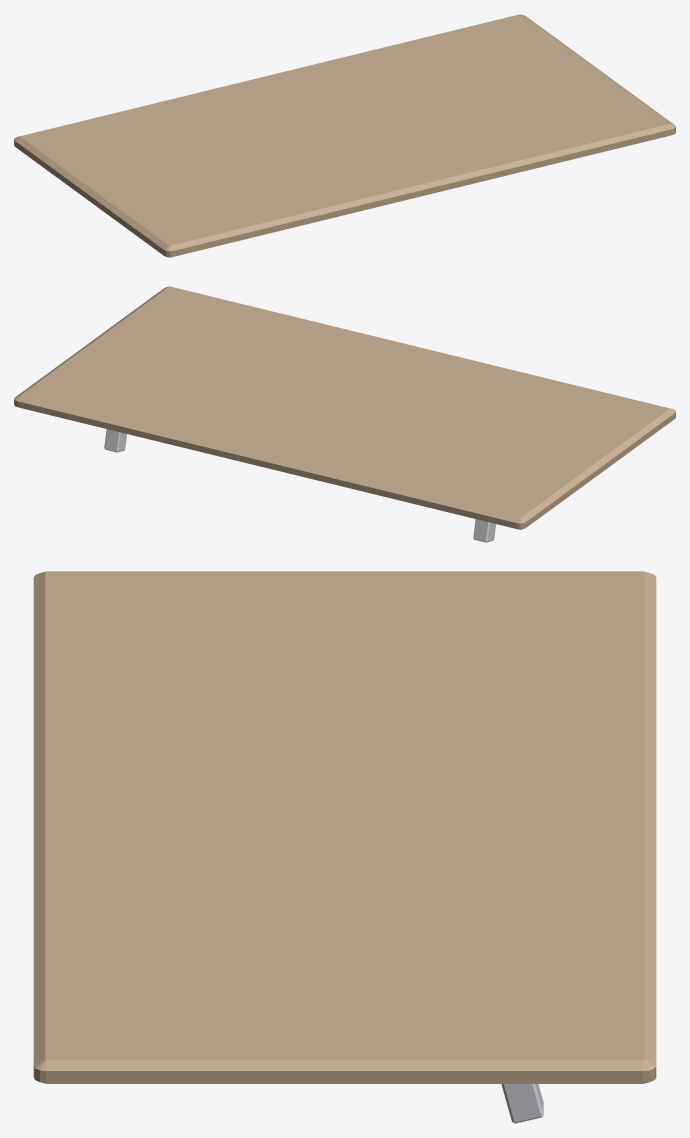
File: fitted-kitchen-and-bathroom-builder-breakfast-bar-top-ba8e04ab__17846.glb
3 renders of one model, top to bottom at view 1: azimuth 30°, elevation 25°; view 2: azimuth 150°, elevation 25°; view 3: azimuth 270°, elevation 25°, orthographic. The views are drawn at different scales.
Visible parts, largest first — view 1: breakfast-bar-top; view 2: breakfast-bar-top; view 3: breakfast-bar-top.
Part boxes in pixels (left/top/right/bottom): breakfast-bar-top: left=14, top=14, right=675, bottom=257; breakfast-bar-top: left=14, top=286, right=675, bottom=542; breakfast-bar-top: left=33, top=571, right=656, bottom=1123.
Bounding box in the file's own units: 1.8 × 0.2052 × 0.95.
